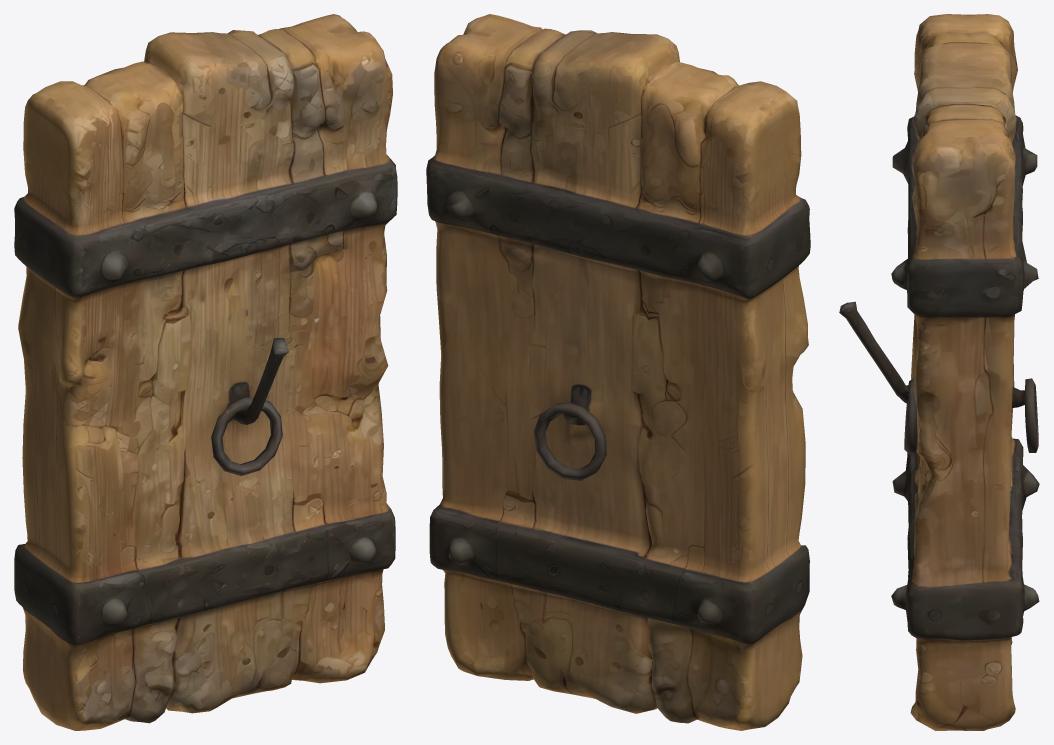
File: gate_tripo.glb
The picture shows the model from 3 angles, left to right: view 1: azimuth 30°, elevation 25°; view 2: azimuth 150°, elevation 25°; view 3: azimuth 270°, elevation 25°; orthographic projection. The views are drawn at different scales.
Parts seen in each view (by area): view 1: weathered wood door 3d model; view 2: weathered wood door 3d model; view 3: weathered wood door 3d model.
Boxes of the visible parts, x1,y1,x2,y2 form: weathered wood door 3d model: (14,14,397,730); weathered wood door 3d model: (426,14,810,730); weathered wood door 3d model: (839,14,1039,730).
Size of the model in its own units: 0.5227 by 0.9764 by 0.2898.
Materials: 1 (1 with a texture image).
